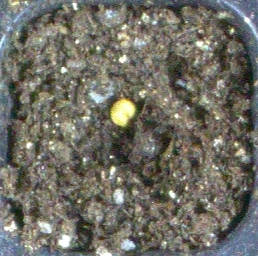chilli seed: (109, 98, 136, 126)
